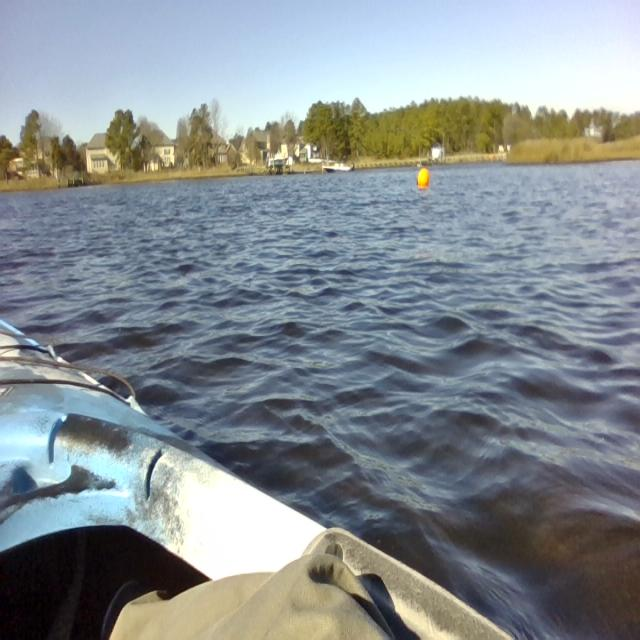Buoy: (414, 165, 434, 190)
